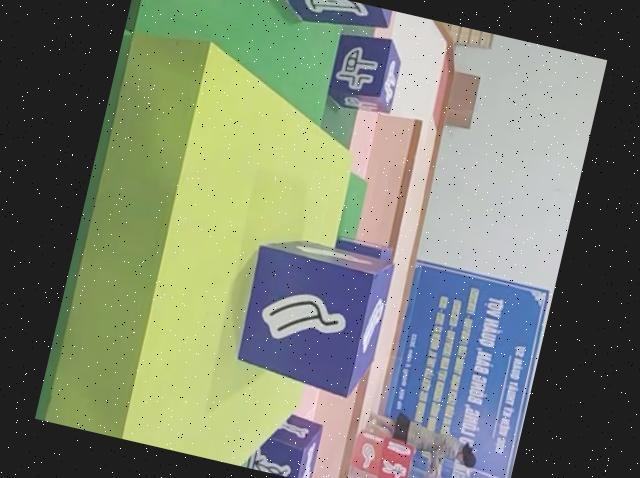R2 Real Blue: (225, 229, 392, 401), (320, 27, 403, 119), (245, 406, 324, 478), (247, 0, 392, 38)
